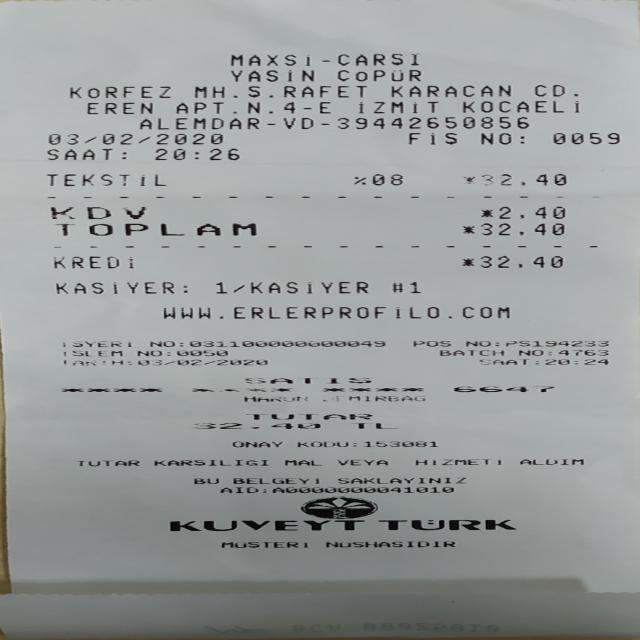text: (163, 305, 509, 320), (56, 222, 255, 236), (48, 130, 222, 145), (168, 519, 364, 531), (339, 116, 532, 128), (390, 83, 508, 99), (46, 172, 164, 188), (55, 280, 173, 295), (242, 281, 371, 294), (376, 518, 514, 530), (462, 99, 578, 113), (139, 116, 257, 129), (68, 85, 170, 100), (49, 205, 144, 221), (54, 254, 145, 270), (273, 486, 453, 494), (188, 340, 388, 347), (194, 420, 320, 431), (282, 84, 365, 99), (230, 68, 312, 83), (480, 221, 562, 236), (154, 147, 238, 161), (336, 52, 418, 66), (246, 412, 371, 421), (481, 173, 567, 186), (358, 99, 437, 113), (479, 254, 563, 267), (333, 68, 422, 80), (228, 53, 310, 66), (136, 358, 266, 366), (153, 458, 266, 467), (244, 376, 369, 384), (497, 206, 566, 220), (85, 100, 151, 114), (553, 132, 618, 146), (46, 147, 111, 161), (503, 339, 609, 347), (453, 385, 556, 393), (324, 541, 453, 547), (337, 477, 464, 483), (402, 132, 458, 144), (176, 100, 223, 114), (247, 100, 294, 114), (318, 395, 426, 401), (413, 458, 503, 465), (61, 339, 129, 348), (232, 477, 317, 484), (221, 541, 306, 548), (519, 457, 582, 466), (76, 458, 137, 467), (282, 116, 319, 129), (192, 84, 222, 100), (536, 83, 567, 98), (336, 458, 386, 467), (363, 441, 438, 447), (59, 359, 122, 366), (244, 395, 307, 402), (440, 349, 502, 356), (371, 173, 404, 186), (230, 440, 281, 448), (481, 132, 509, 146), (350, 421, 399, 429), (179, 349, 227, 357), (296, 440, 343, 448), (479, 358, 530, 365), (558, 349, 607, 356), (60, 351, 127, 356), (284, 458, 320, 467), (411, 339, 449, 347), (244, 86, 265, 98), (134, 349, 163, 357), (148, 339, 173, 348), (220, 486, 252, 493), (466, 339, 492, 347), (390, 279, 403, 294), (407, 279, 420, 294), (265, 116, 279, 129), (574, 83, 586, 98), (518, 349, 542, 356), (462, 221, 473, 236), (191, 478, 217, 484), (215, 280, 226, 294), (544, 358, 566, 365), (302, 99, 312, 114), (318, 99, 328, 114), (584, 359, 608, 365), (350, 176, 368, 184), (457, 258, 475, 266), (477, 208, 492, 216), (462, 176, 476, 184), (322, 120, 330, 129), (492, 339, 500, 347), (519, 132, 523, 146), (164, 349, 171, 357), (232, 84, 235, 100), (182, 280, 185, 295), (232, 100, 235, 114), (122, 147, 125, 161), (533, 358, 539, 365), (263, 486, 268, 493), (126, 358, 130, 366), (350, 440, 354, 448), (574, 359, 578, 365), (547, 349, 550, 356), (179, 339, 181, 348)
